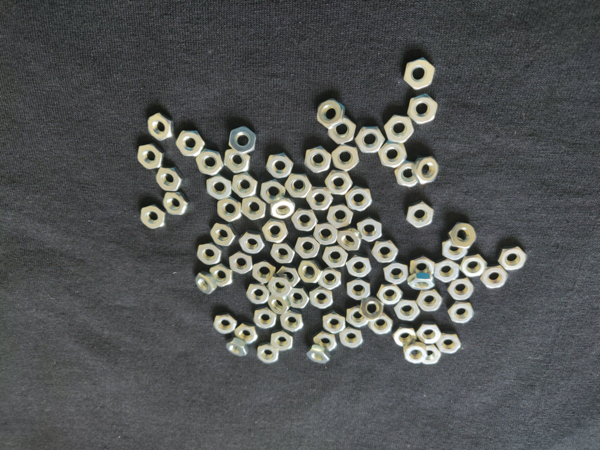nut: (404, 57, 436, 91), (355, 121, 386, 154), (409, 93, 439, 125), (449, 220, 478, 252), (386, 114, 415, 143), (319, 97, 345, 129), (304, 144, 332, 173), (229, 125, 257, 154), (214, 197, 244, 224), (432, 256, 462, 283), (136, 143, 164, 171), (347, 184, 374, 213), (296, 259, 323, 288), (408, 200, 434, 230), (196, 149, 226, 175), (178, 128, 205, 156), (230, 171, 258, 198), (329, 116, 355, 145), (379, 141, 408, 167), (266, 152, 295, 178), (447, 276, 476, 302), (344, 303, 373, 329), (413, 154, 438, 184), (147, 112, 172, 142), (242, 195, 269, 222), (139, 203, 165, 231), (323, 243, 349, 271), (239, 228, 265, 256), (346, 254, 375, 279), (447, 301, 477, 325), (325, 171, 355, 195), (233, 321, 259, 348), (157, 167, 185, 192), (357, 218, 385, 243), (261, 219, 289, 244), (345, 277, 373, 302), (308, 286, 336, 311), (291, 208, 320, 232), (268, 196, 297, 220), (224, 147, 250, 173), (336, 228, 362, 254), (358, 295, 384, 321), (481, 265, 508, 290), (333, 145, 360, 170), (434, 258, 461, 283), (410, 254, 435, 281), (296, 235, 323, 260), (396, 161, 420, 189), (160, 192, 188, 216), (205, 175, 233, 199), (286, 171, 310, 199), (317, 268, 346, 291), (327, 205, 353, 230), (307, 186, 333, 211), (501, 247, 528, 271), (460, 254, 487, 278), (196, 242, 223, 266), (259, 180, 286, 204), (439, 237, 466, 261), (211, 313, 238, 337), (268, 243, 296, 266), (338, 327, 366, 350), (312, 331, 340, 354), (313, 222, 338, 247), (417, 289, 442, 314), (395, 300, 421, 324), (370, 313, 396, 337), (209, 265, 235, 289), (278, 311, 305, 334), (377, 284, 405, 306), (438, 331, 462, 356), (345, 278, 370, 302), (373, 241, 399, 264), (383, 262, 409, 285), (418, 322, 444, 345), (286, 287, 309, 313), (246, 283, 272, 306), (405, 271, 436, 290), (320, 313, 348, 334), (267, 275, 292, 298), (277, 265, 302, 288), (403, 343, 429, 365), (227, 252, 253, 274), (417, 345, 442, 367), (393, 326, 418, 348), (307, 344, 332, 366), (268, 331, 294, 352), (251, 308, 277, 329), (224, 339, 248, 361), (194, 272, 216, 296), (257, 344, 281, 365)
